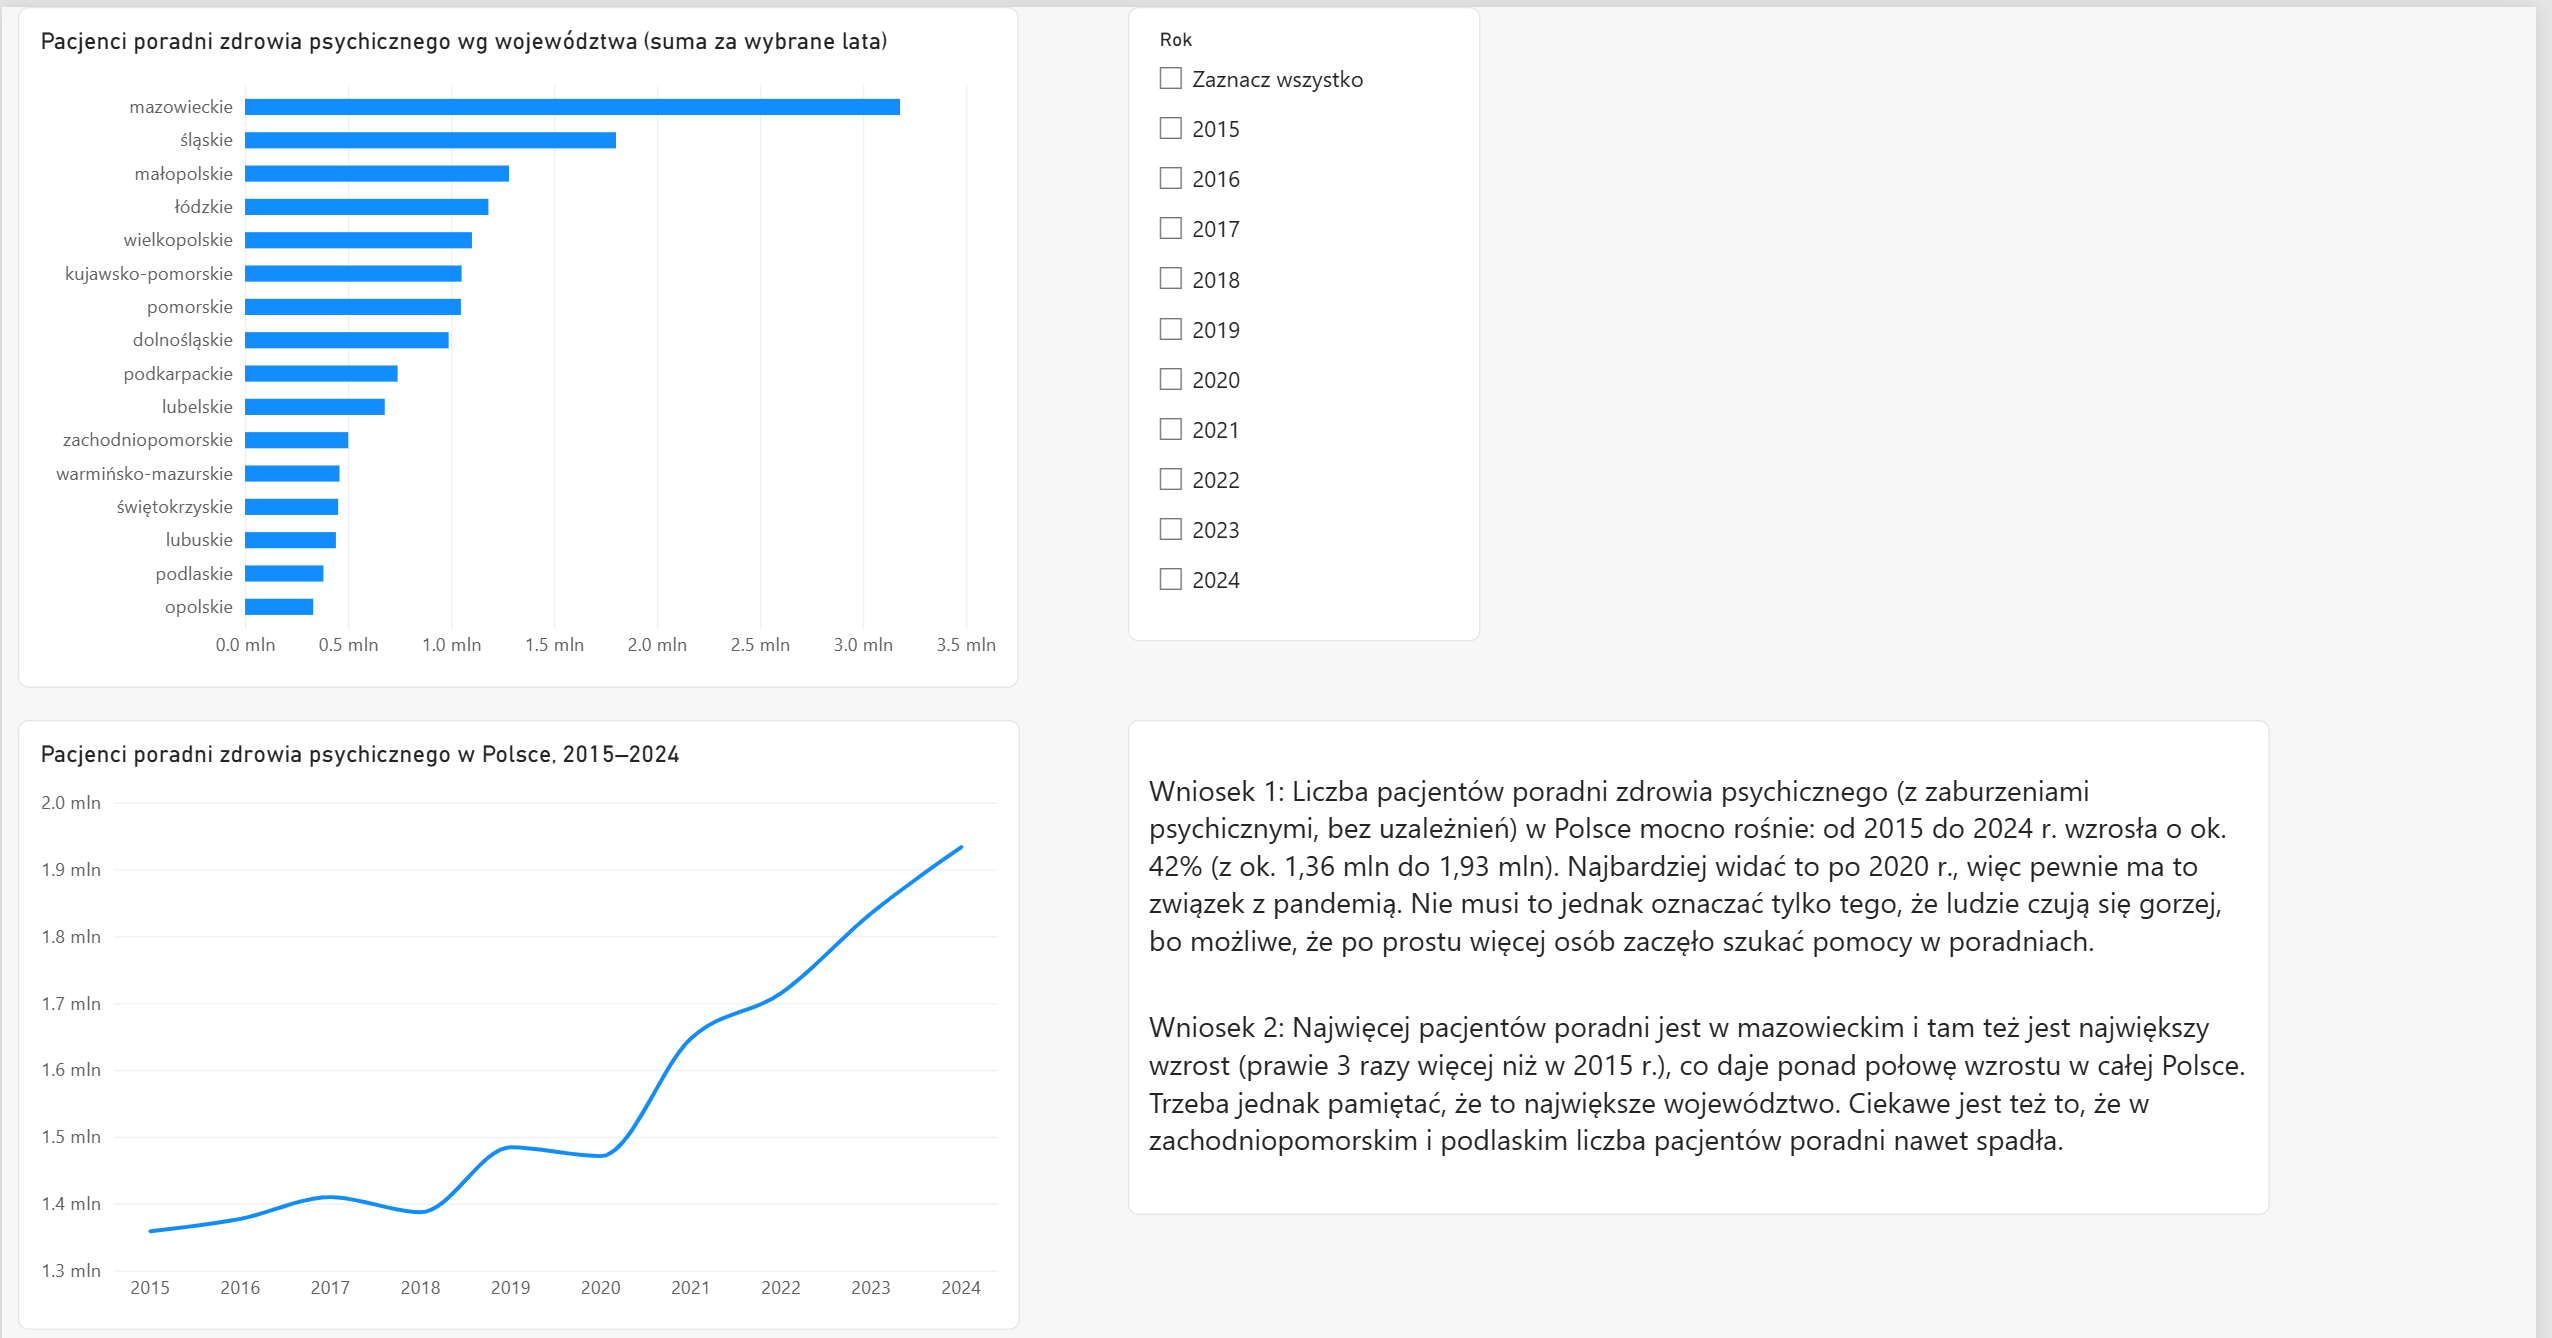

The dashboard page shown, as its layout file describes it:
{"tool":"powerbi","page":{"name":"Raport","canvas":[1920,1080],"ordinal":0},"visuals":[{"type":"clusteredBarChart","title":"Pacjenci poradni zdrowia psychicznego wg województwa (suma za wybrane lata)","fields":{"Category":["ZdrowiePsychiczne.Województwo"],"Y":["Sum(ZdrowiePsychiczne.Liczba leczonych)"]},"box":[12.4,0,758.1,515],"z":0},{"type":"lineChart","title":"Pacjenci poradni zdrowia psychicznego w Polsce, 2015–2024","fields":{"Category":["ZdrowiePsychiczne.Rok"],"Y":["Sum(ZdrowiePsychiczne.Liczba leczonych)"]},"box":[12.4,539.7,759,462],"z":1000},{"type":"slicer","fields":{"Values":["ZdrowiePsychiczne.Rok"]},"box":[852.3,0,267.2,480.7],"z":2000},{"type":"textbox","box":[852.9,539.7,865.2,374.9],"z":3000}]}

Visuals, with their boxes on the page's 1920x1080 design canvas (x1, y1, x2, y2). These are canvas units, not pixel positions in the 2552x1338 screenshot, which may show the page scaled, cropped or inside an application window:
"Pacjenci poradni zdrowia psychicznego wg województwa (suma za wybrane lata)" clusteredBarChart: <box>12,0,770,515</box>
"Pacjenci poradni zdrowia psychicznego w Polsce, 2015–2024" lineChart: <box>12,540,771,1002</box>
slicer - ZdrowiePsychiczne.Rok: <box>852,0,1120,481</box>
textbox: <box>853,540,1718,915</box>
